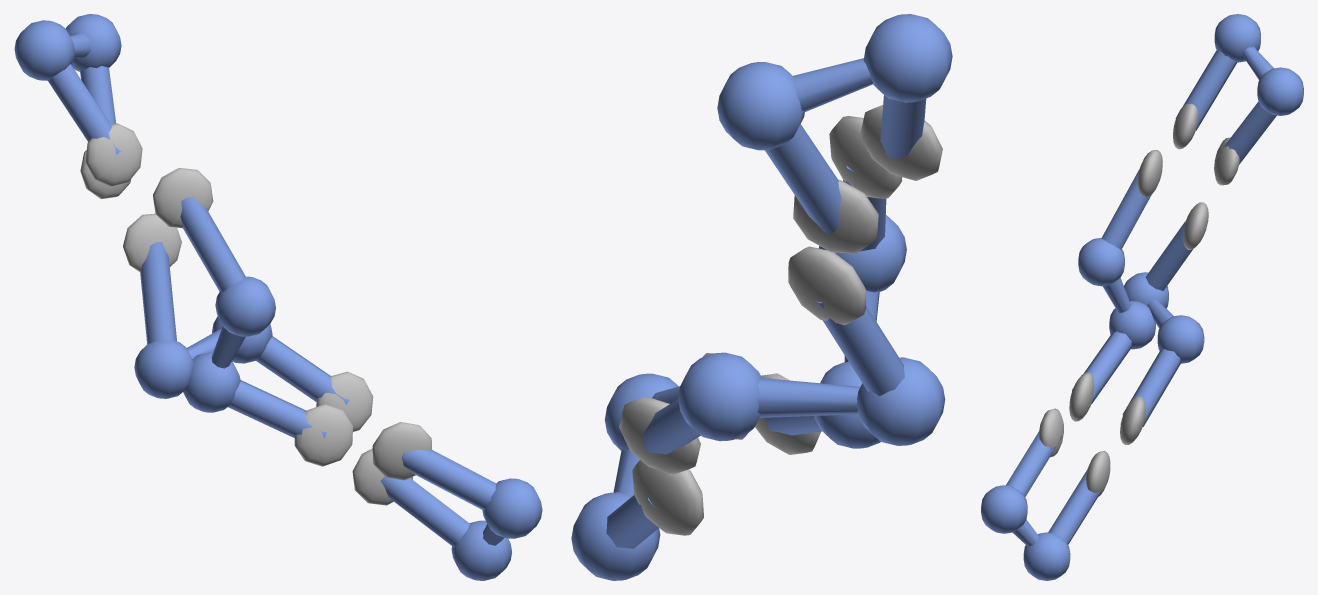
The model's file is crossover.gltf.
3 renders of one model, left to right at view 1: azimuth 30°, elevation 25°; view 2: azimuth 150°, elevation 25°; view 3: azimuth 270°, elevation 25°, orthographic. The views are drawn at different scales.
Parts seen in each view (by area): view 1: connector_143, backbone_109, connector_70, backbone_70, connector_172, backbone_143, backbone_172, nucleoside_144, connector_173, nucleoside_109, connector_144, connector_69 (+13 smaller); view 2: backbone_109, backbone_108, backbone_69, backbone_70, nucleoside_70, backbone_173, connector_108, nucleoside_173, connector_70, bbconnector_70, nucleoside_108, nucleoside_143 (+13 smaller); view 3: backbone_108, backbone_172, backbone_143, backbone_173, backbone_69, backbone_109, connector_109, connector_69, connector_143, backbone_144, connector_173, connector_144 (+14 smaller).
Boxes of the visible parts, bbox=[...] form: connector_143: bbox=[180, 197, 245, 291]; backbone_109: bbox=[14, 20, 74, 80]; connector_70: bbox=[140, 242, 176, 344]; backbone_70: bbox=[134, 340, 194, 398]; connector_172: bbox=[401, 449, 496, 509]; backbone_143: bbox=[215, 276, 275, 336]; backbone_172: bbox=[482, 478, 542, 538]; nucleoside_144: bbox=[294, 404, 353, 466]; connector_173: bbox=[380, 476, 470, 547]; nucleoside_109: bbox=[85, 123, 142, 186]; connector_144: bbox=[228, 380, 326, 438]; connector_69: bbox=[256, 336, 349, 404]; backbone_109: bbox=[863, 14, 952, 102]; backbone_108: bbox=[717, 62, 804, 150]; backbone_69: bbox=[678, 352, 761, 441]; backbone_70: bbox=[856, 357, 945, 445]; nucleoside_70: bbox=[788, 246, 866, 325]; backbone_173: bbox=[571, 492, 660, 580]; connector_108: bbox=[765, 124, 841, 233]; nucleoside_173: bbox=[632, 459, 703, 535]; connector_70: bbox=[815, 301, 904, 396]; bbconnector_70: bbox=[757, 378, 860, 417]; nucleoside_108: bbox=[793, 179, 878, 253]; nucleoside_143: bbox=[829, 116, 902, 198]; backbone_108: bbox=[1257, 67, 1303, 115]; backbone_172: bbox=[981, 485, 1027, 533]; backbone_143: bbox=[1078, 237, 1124, 286]; backbone_173: bbox=[1023, 532, 1070, 580]; backbone_69: bbox=[1157, 315, 1204, 363]; backbone_109: bbox=[1214, 14, 1260, 62]; connector_109: bbox=[1175, 50, 1237, 130]; connector_69: bbox=[1122, 349, 1181, 426]; connector_143: bbox=[1102, 169, 1159, 249]; backbone_144: bbox=[1109, 301, 1155, 349]; connector_173: bbox=[1048, 470, 1107, 544]; connector_144: bbox=[1072, 331, 1131, 403].
Size of what is drawn, in the model's own units: 2.84 by 3.95 by 2.64.
